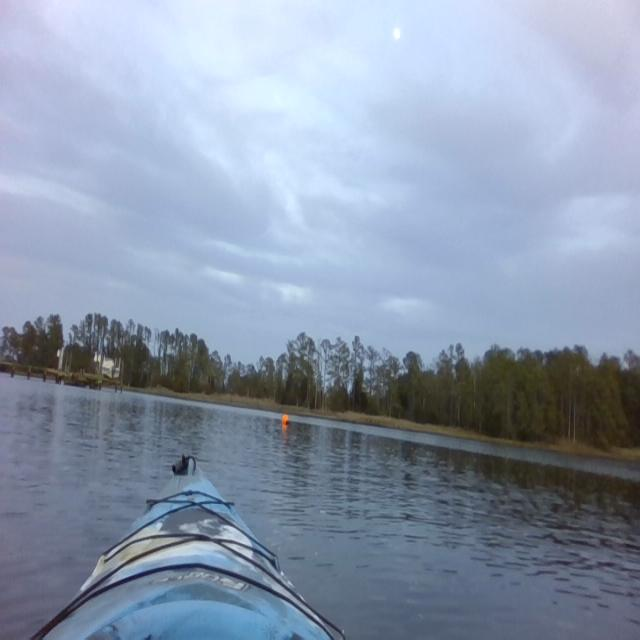Buoy: (281, 411, 291, 426)
